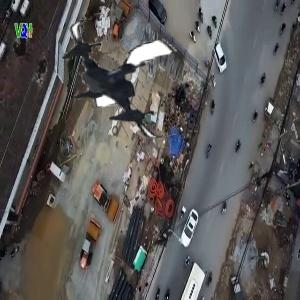drone: (52, 11, 189, 148)
